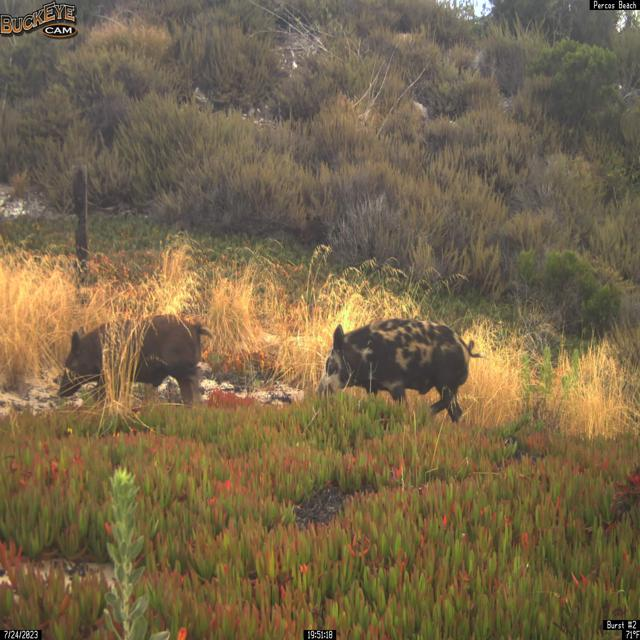pig: (315, 317, 486, 425)
